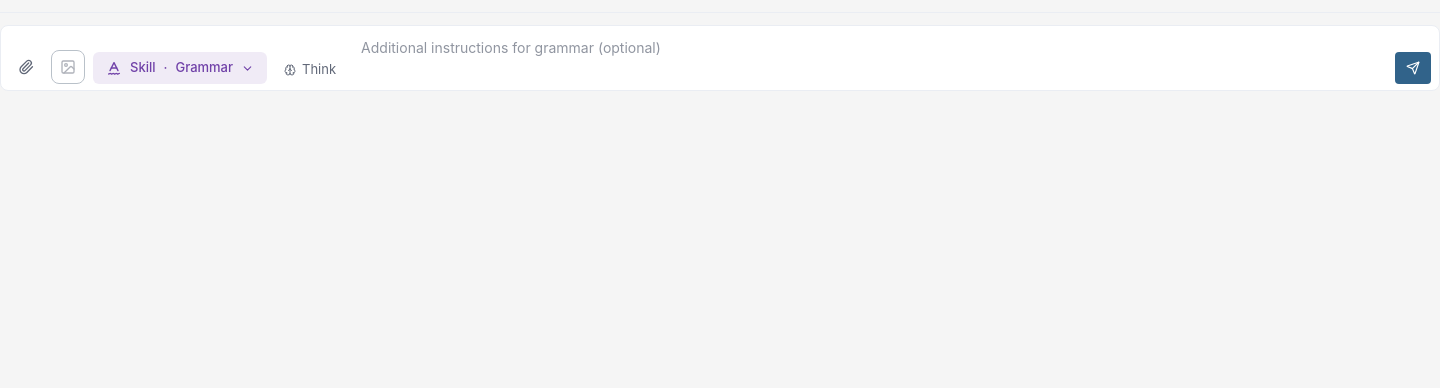
ImproveMode › #704 diff baseline is original markdown › uses the echoed original markdown (with markup) as the diff baseline, not stripped bodyText
Click the button named "Improve Page" at x=1413, y=68, box [1395,52,1431,84]
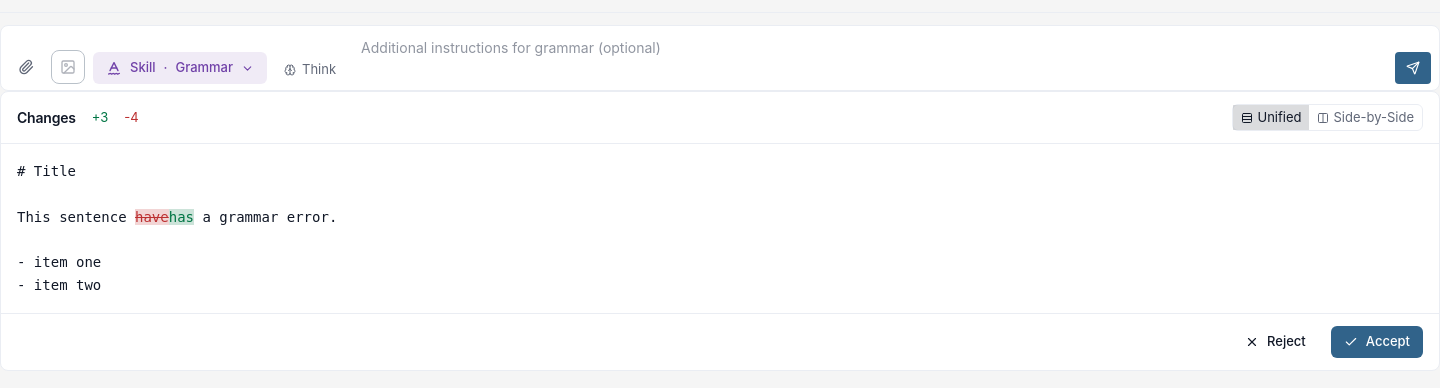
Result: the element with test id "unified-diff" is shown at [17,163,337,293]
Result: the text "has" is shown at [169,209,194,225]
Result: the element with test id "unified-diff" shows "# Title" at [17,163,135,225]
